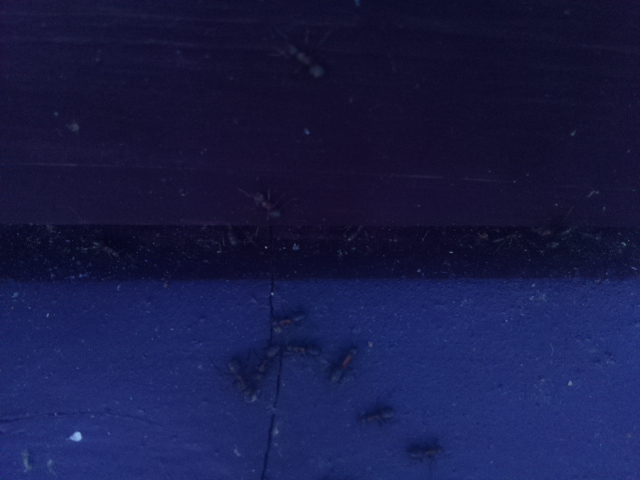ant: (265, 17, 329, 89), (220, 350, 265, 403), (228, 181, 285, 220), (326, 340, 363, 387), (402, 438, 450, 465), (271, 305, 308, 333), (361, 402, 397, 428)
